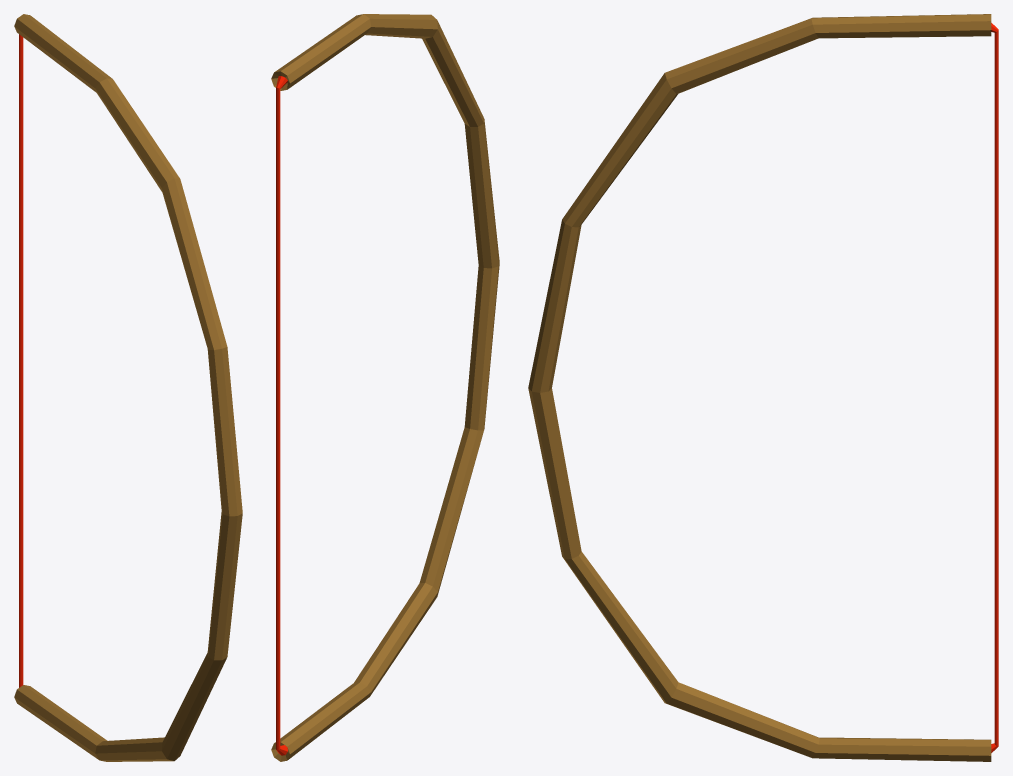
File: LowPolyBowRed.fbx
3 views of the same model, side by side, from view 1: azimuth 30°, elevation 25°; view 2: azimuth 150°, elevation 25°; view 3: azimuth 270°, elevation 25° (orthographic). The views are drawn at different scales.
Visible parts, largest first — view 1: Bow; view 2: Bow; view 3: Bow.
Boxes of the visible parts, box(x1,y1,x2,y2) form: Bow: box(14, 14, 242, 761); Bow: box(271, 14, 499, 761); Bow: box(528, 14, 998, 761).
Bounding box in the file's own units: 10 × 348 × 198.
